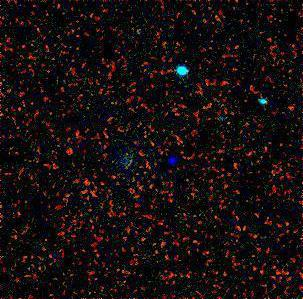star: (158, 146, 188, 176)
